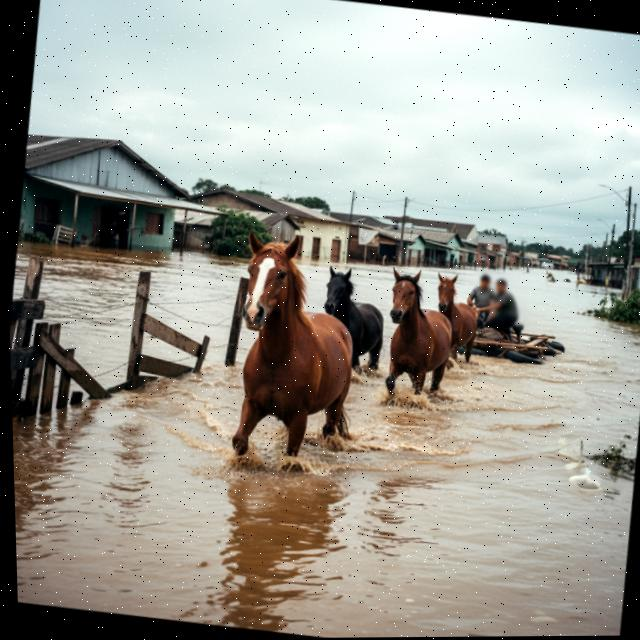civilian: (461, 270, 506, 336), (484, 278, 527, 341)
horse: (209, 222, 380, 475), (366, 263, 467, 408), (309, 260, 398, 380), (422, 268, 490, 369)
